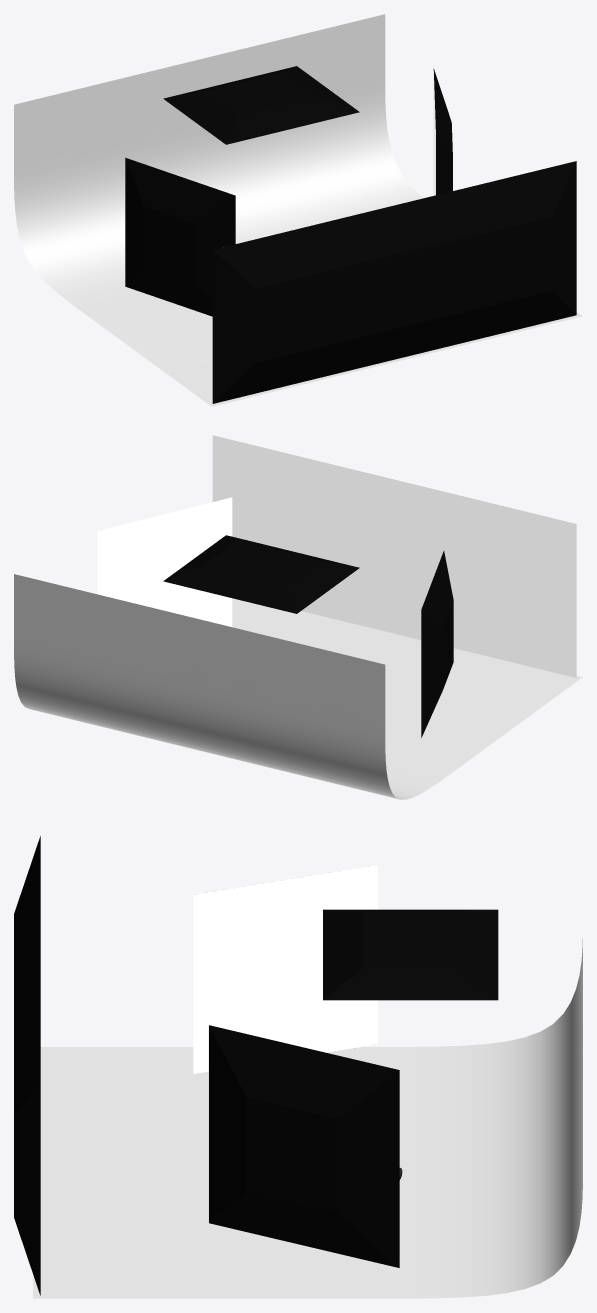
The model's file is steampunk_shoe-optimo.glb.
The picture shows the model from 3 angles, top to bottom: view 1: azimuth 30°, elevation 25°; view 2: azimuth 150°, elevation 25°; view 3: azimuth 270°, elevation 25°; orthographic projection. The views are drawn at different scales.
Visible parts, largest first — view 1: Light_right_1, Backdrop_0; view 2: Backdrop_0, Light_right_0, Light_right_1; view 3: Backdrop_0, Light_right_1, Light_left_0.
Boxes of the visible parts, x1,y1,x2,y2 form: Light_right_1: (125,66,576,403); Backdrop_0: (14,14,582,406); Backdrop_0: (14,574,582,799); Light_right_0: (97,435,576,677); Light_right_1: (163,535,453,737); Backdrop_0: (33,938,582,1298); Light_right_1: (14,836,498,1295); Light_left_0: (193,865,377,1073).
Bounding box in the file's own units: 16 × 6.95 × 15.29.
14 materials, 5 textured.
